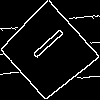I: (23, 26, 67, 68)
